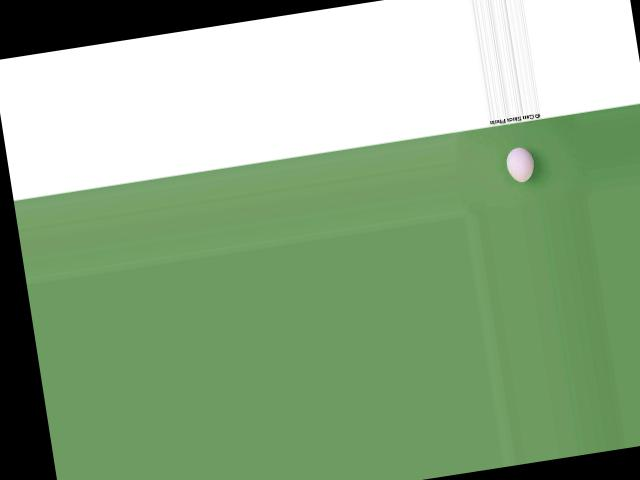egg: (504, 145, 535, 183)
